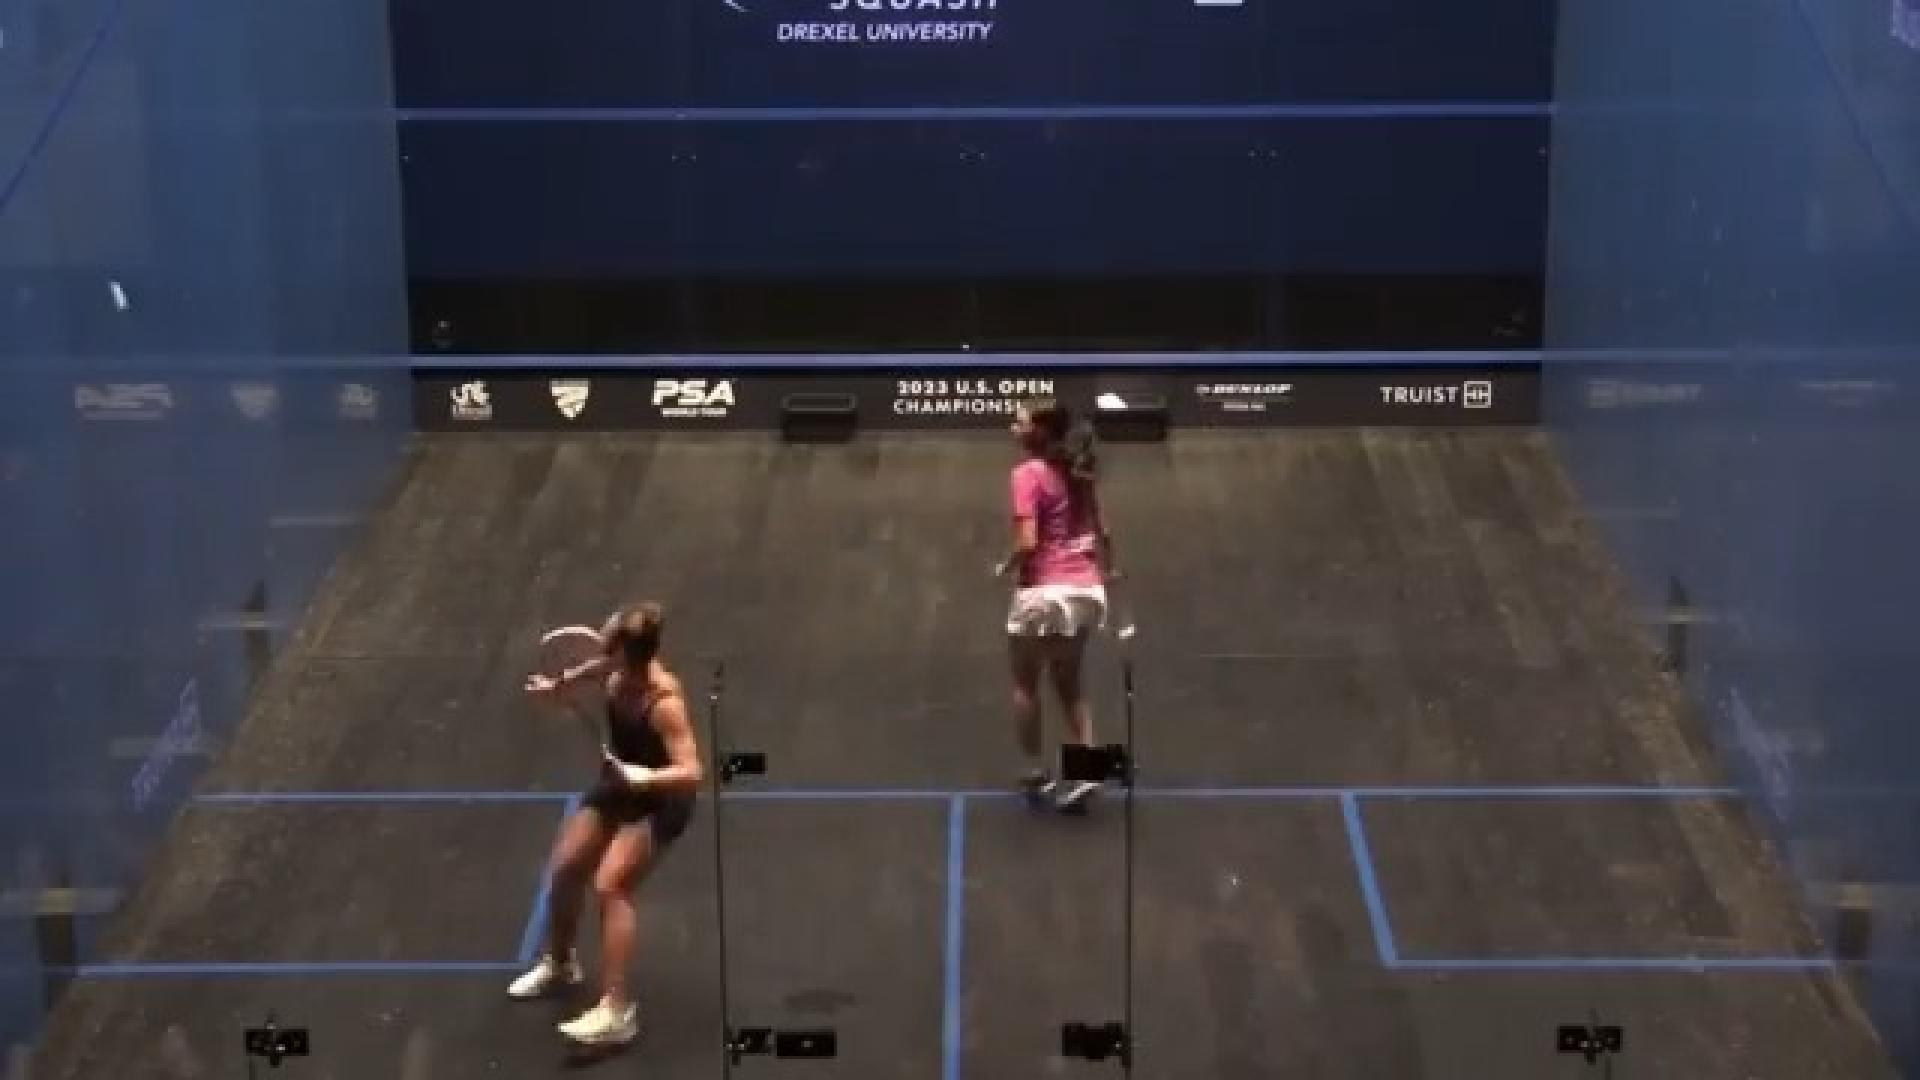Squash-Ball: (90, 261, 153, 344)
